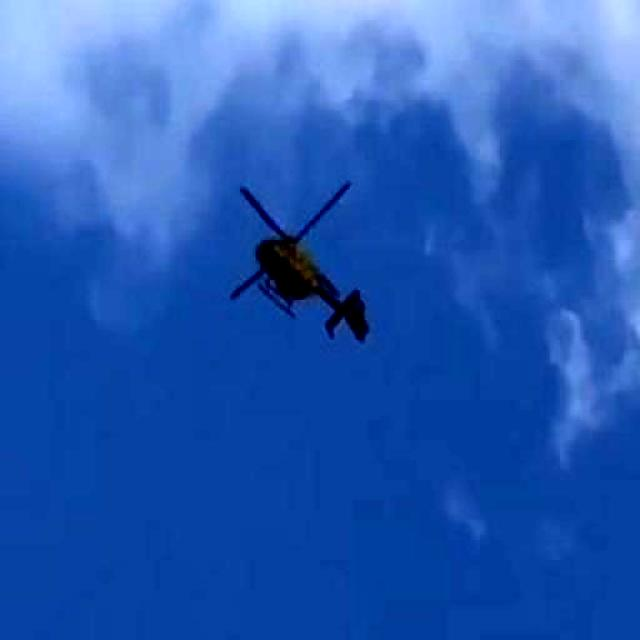drone: (174, 124, 394, 380)
